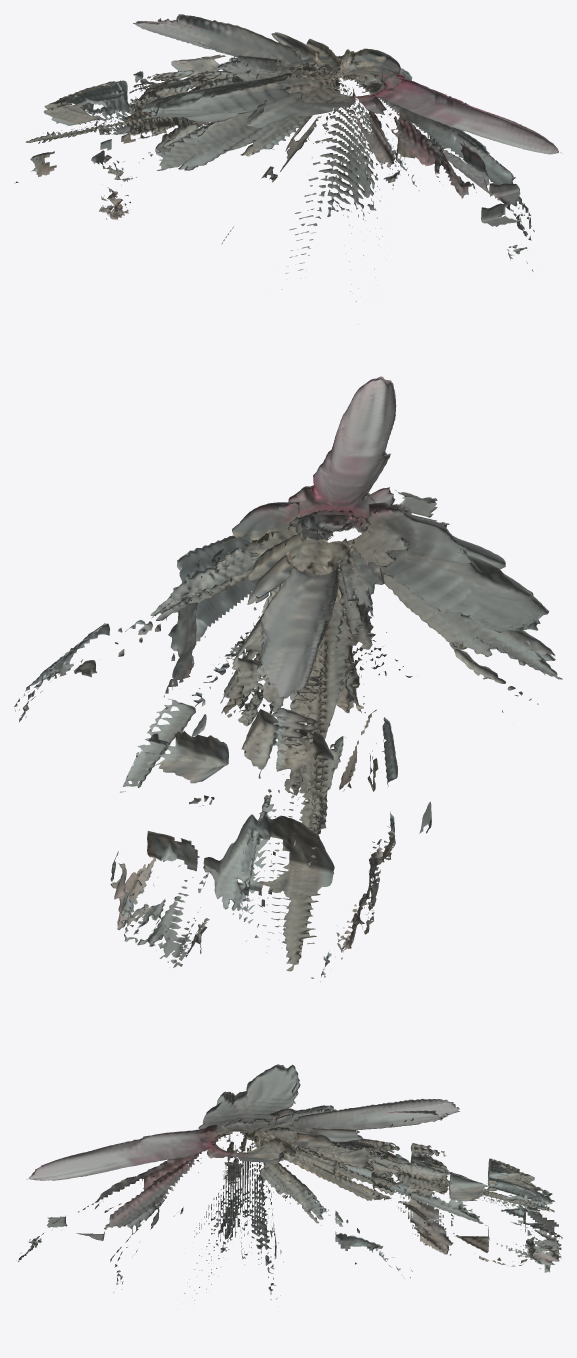
Rendered from a0-seamless-takeover-collider.glb.
The picture shows the model from 3 angles, top to bottom: view 1: azimuth 30°, elevation 25°; view 2: azimuth 150°, elevation 25°; view 3: azimuth 270°, elevation 25°; orthographic projection. The views are drawn at different scales.
Visible parts, largest first — view 1: world; view 2: world; view 3: world.
Part boxes in pixels (box(x1,y1,x2,y2)): world: box(14, 14, 562, 324); world: box(14, 376, 562, 981); world: box(18, 1064, 562, 1306).
Bounding box in the file's own units: 53.44 × 39.49 × 91.06.
